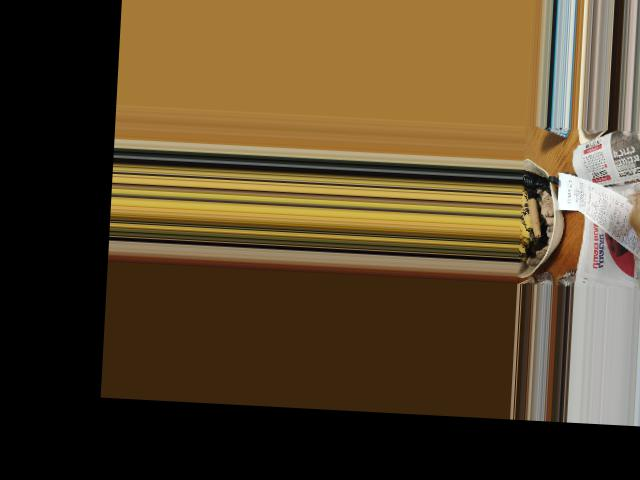onion: (627, 182, 640, 249)
